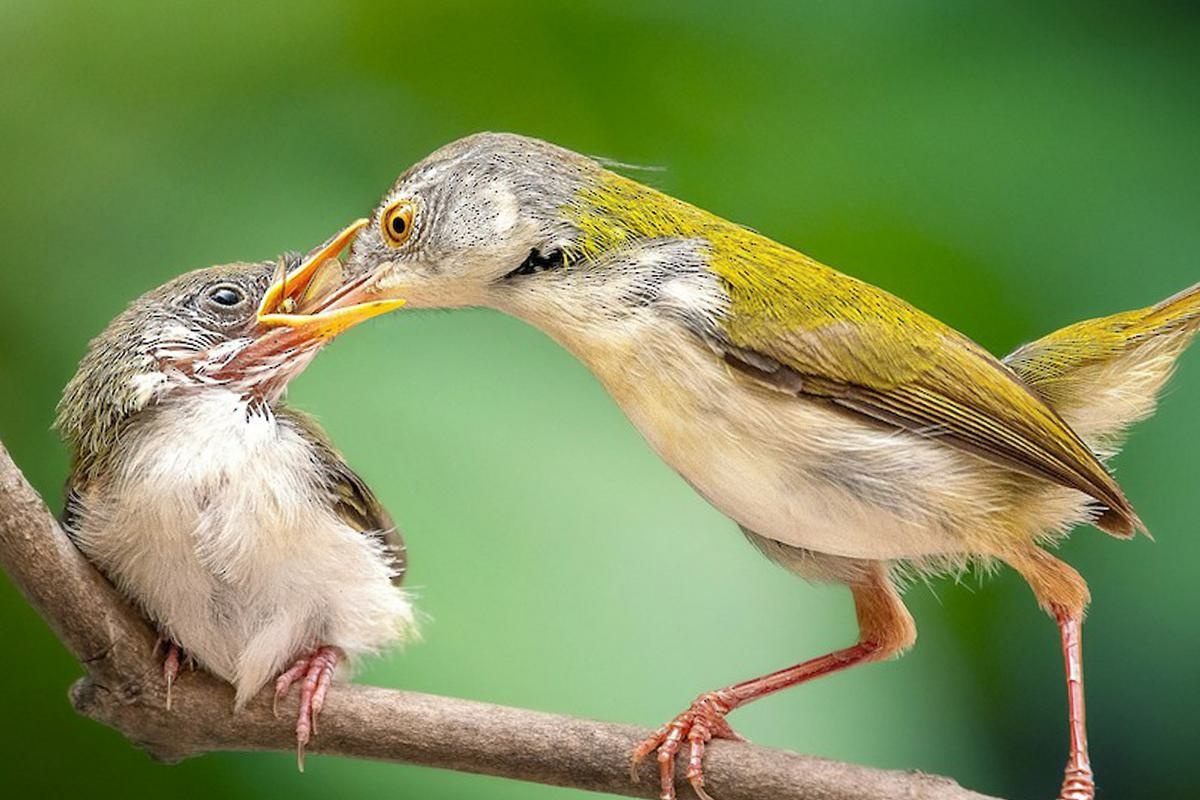tailorbird: (343, 118, 1171, 793), (56, 215, 353, 743)
